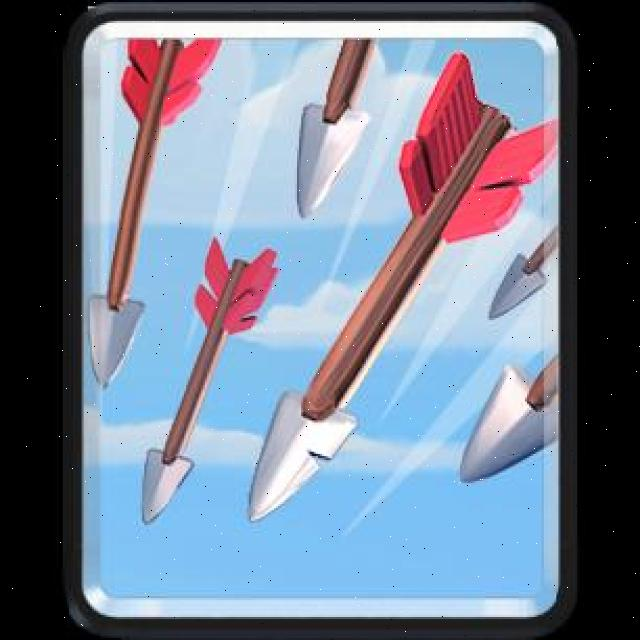Arrows: (63, 2, 575, 634)
